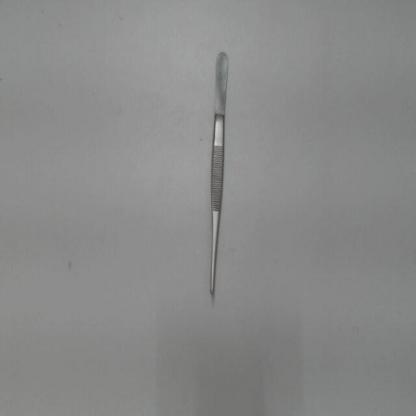Gillies Toothed Dissector: (203, 47, 232, 304)
